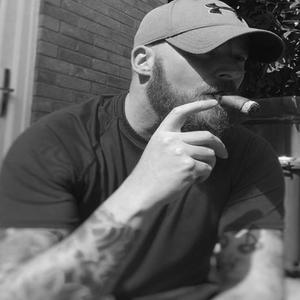cigarette: (221, 90, 262, 115)
